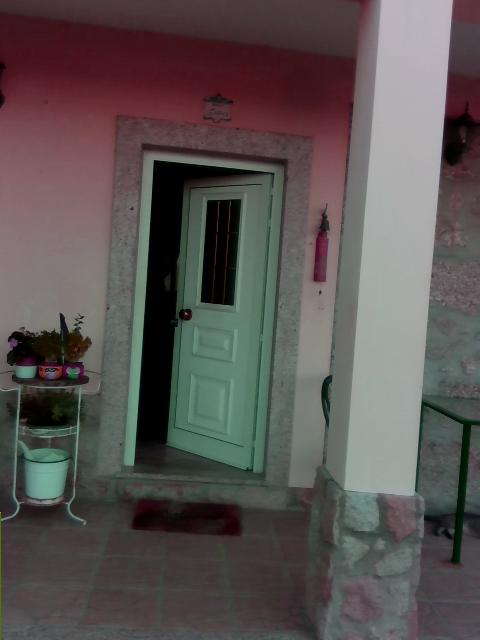semi_door: (122, 142, 288, 479)
